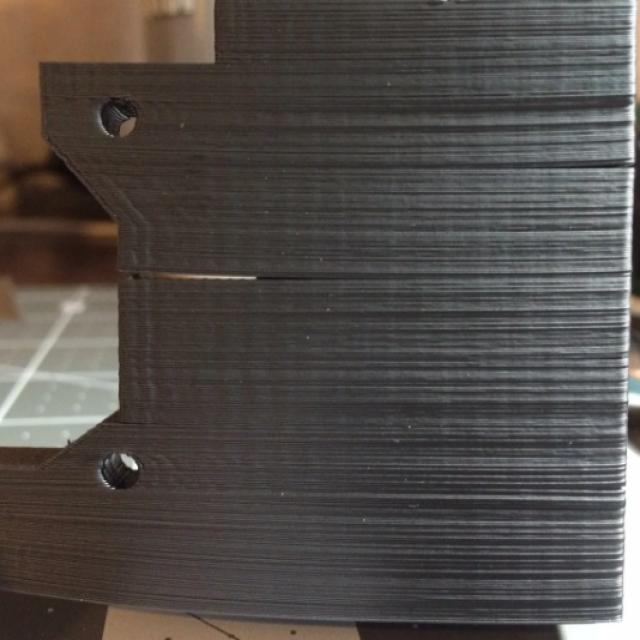Warping: (111, 258, 331, 293), (530, 153, 637, 180)
